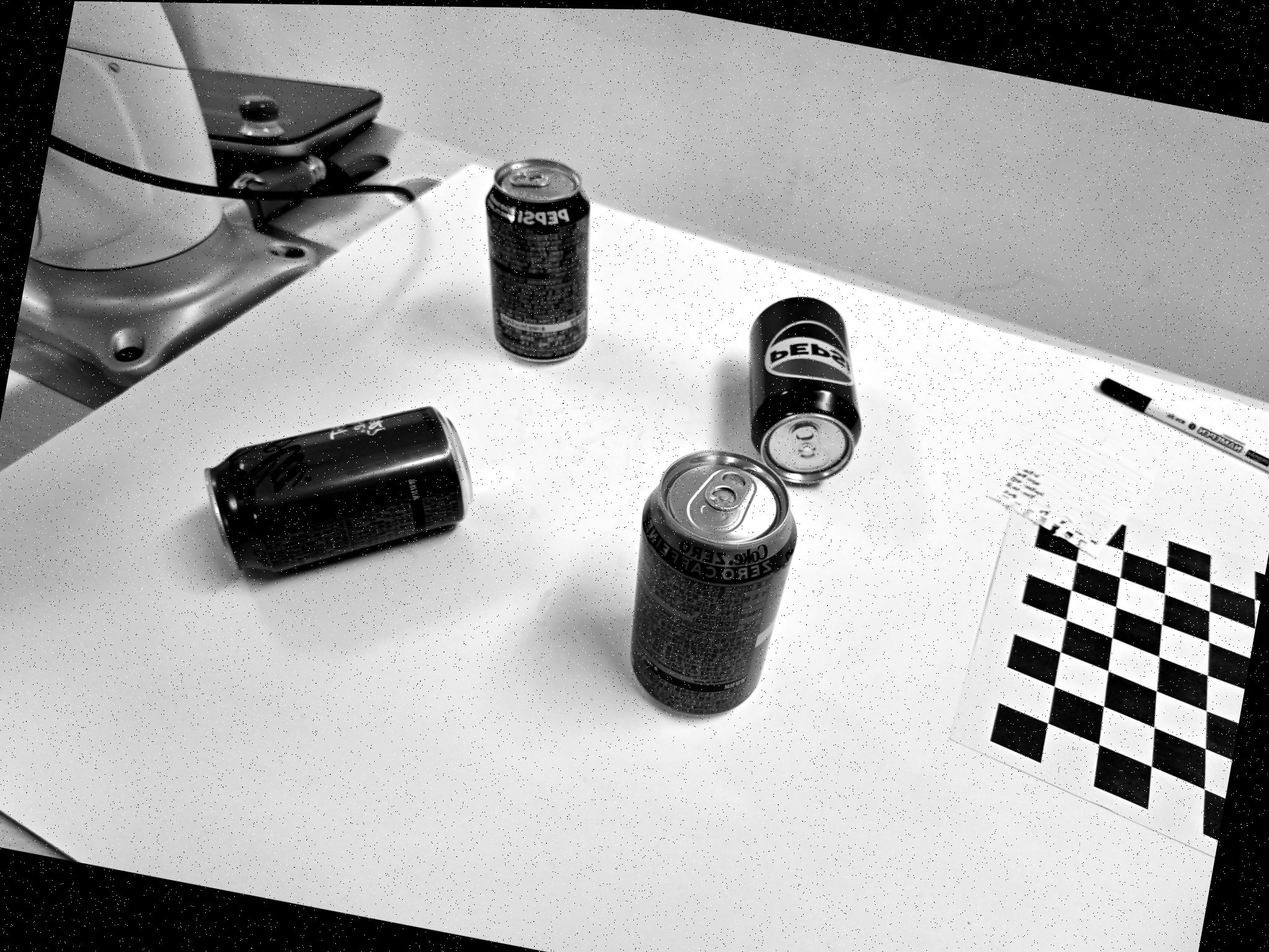can_coke_decaf: (631, 450, 796, 715)
can_coke_zero: (206, 407, 471, 572)
can_pepsi: (749, 297, 861, 483)
can_pepsi_zero: (485, 159, 589, 362)
